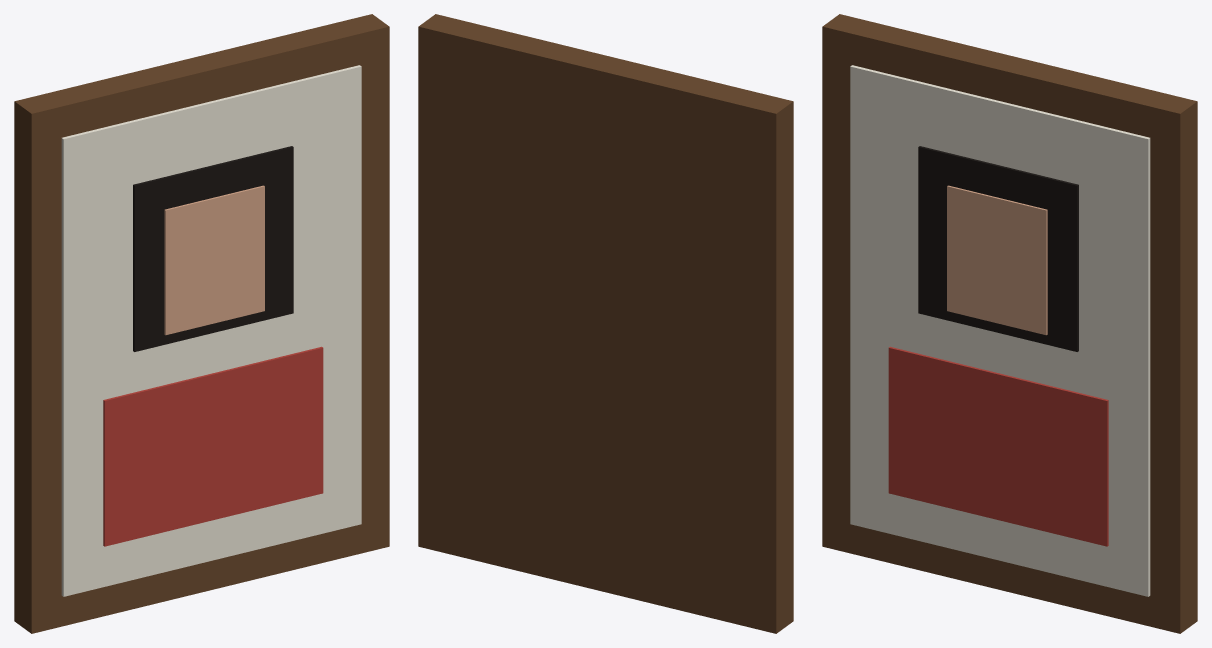
File: GD_Frame_Portrait_02.glb
The picture shows the model from 3 angles, left to right: view 1: azimuth 30°, elevation 25°; view 2: azimuth 150°, elevation 25°; view 3: azimuth 330°, elevation 25°; orthographic projection.
Visible parts, largest first — view 1: GD_Frame_Portrait_02; view 2: GD_Frame_Portrait_02; view 3: GD_Frame_Portrait_02.
Boxes of the visible parts, box(x1,y1,x2,y2) form: GD_Frame_Portrait_02: box(14, 14, 389, 633); GD_Frame_Portrait_02: box(418, 14, 793, 633); GD_Frame_Portrait_02: box(822, 14, 1197, 633).
Size of the model in its own units: 0.36 by 0.5 by 0.038.
1 material, 1 textured.
